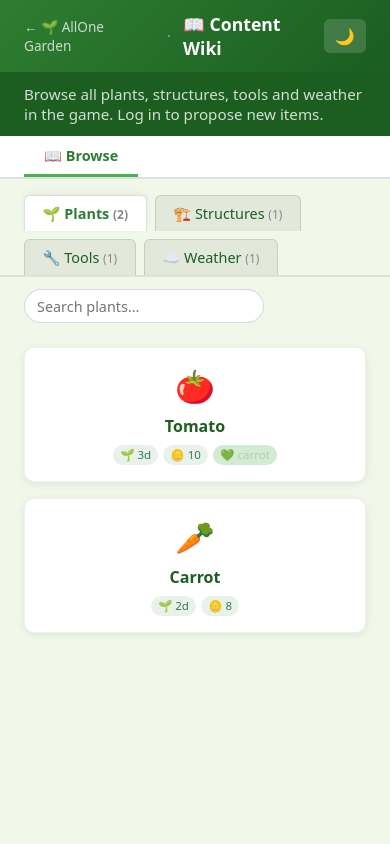
Test: ContentWikiPage — tab switching › switches to Structures tab
Check: the text "Tomato" is shown, box [165,415,225,437]
Click the button "🏗️ Structures (1)" at (228, 213), box [155,195,301,231]
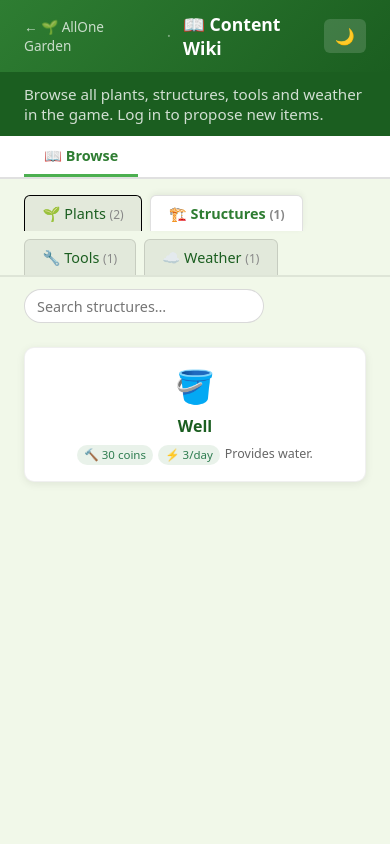
Check: the text "Well" is shown, box [178,415,212,437]
